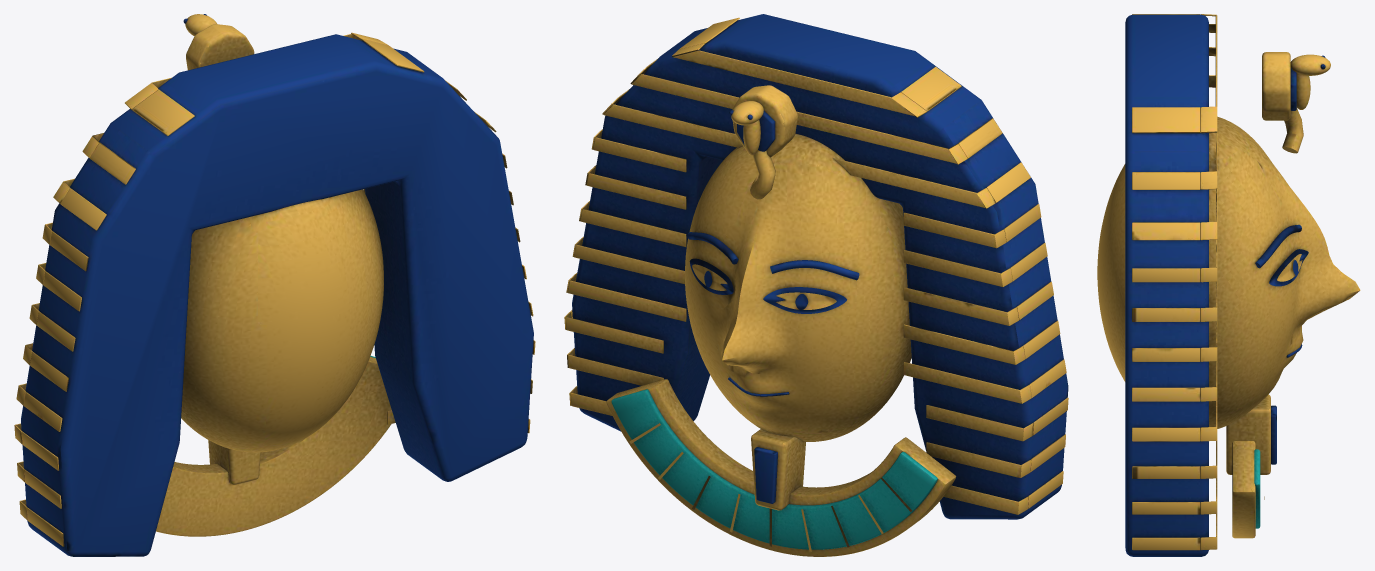
3 views of the same model, side by side, from view 1: azimuth 30°, elevation 25°; view 2: azimuth 150°, elevation 25°; view 3: azimuth 270°, elevation 25° (orthographic). The views are drawn at different scales.
Visible parts, largest first — view 1: Deep_lapis_enamel, Royal_polished_gold; view 2: Royal_polished_gold, Deep_lapis_enamel, Turquoise_enamel; view 3: Royal_polished_gold, Deep_lapis_enamel, Turquoise_enamel.
Boxes of the visible parts, x1=… form: Deep_lapis_enamel: x1=21, y1=14, x2=533, y2=556; Royal_polished_gold: x1=14, y1=14, x2=535, y2=546; Royal_polished_gold: x1=564, y1=17, x2=1068, y2=556; Deep_lapis_enamel: x1=572, y1=14, x2=1068, y2=519; Turquoise_enamel: x1=611, y1=389, x2=937, y2=549; Royal_polished_gold: x1=1097, y1=14, x2=1360, y2=550; Deep_lapis_enamel: x1=1125, y1=14, x2=1325, y2=556; Turquoise_enamel: x1=1254, y1=449, x2=1260, y2=528.
Bounding box in the file's own units: 0.882 × 0.863 × 0.4412.
Materials: 4 (3 with a texture image).
